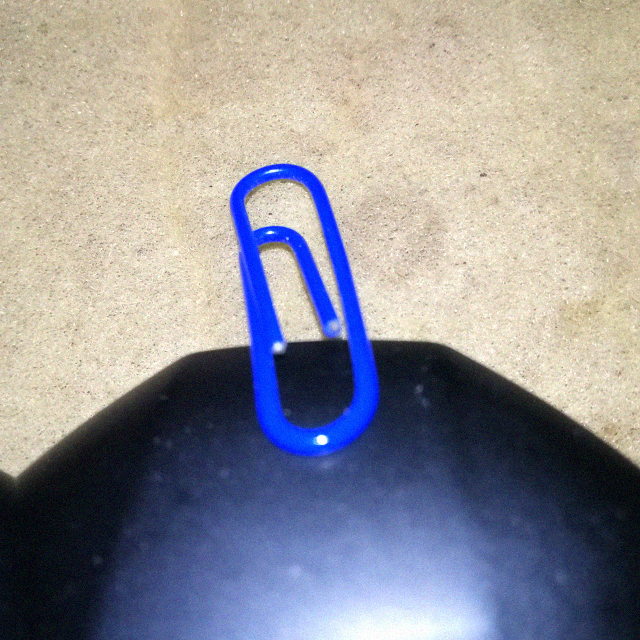pin: (226, 149, 380, 456)
